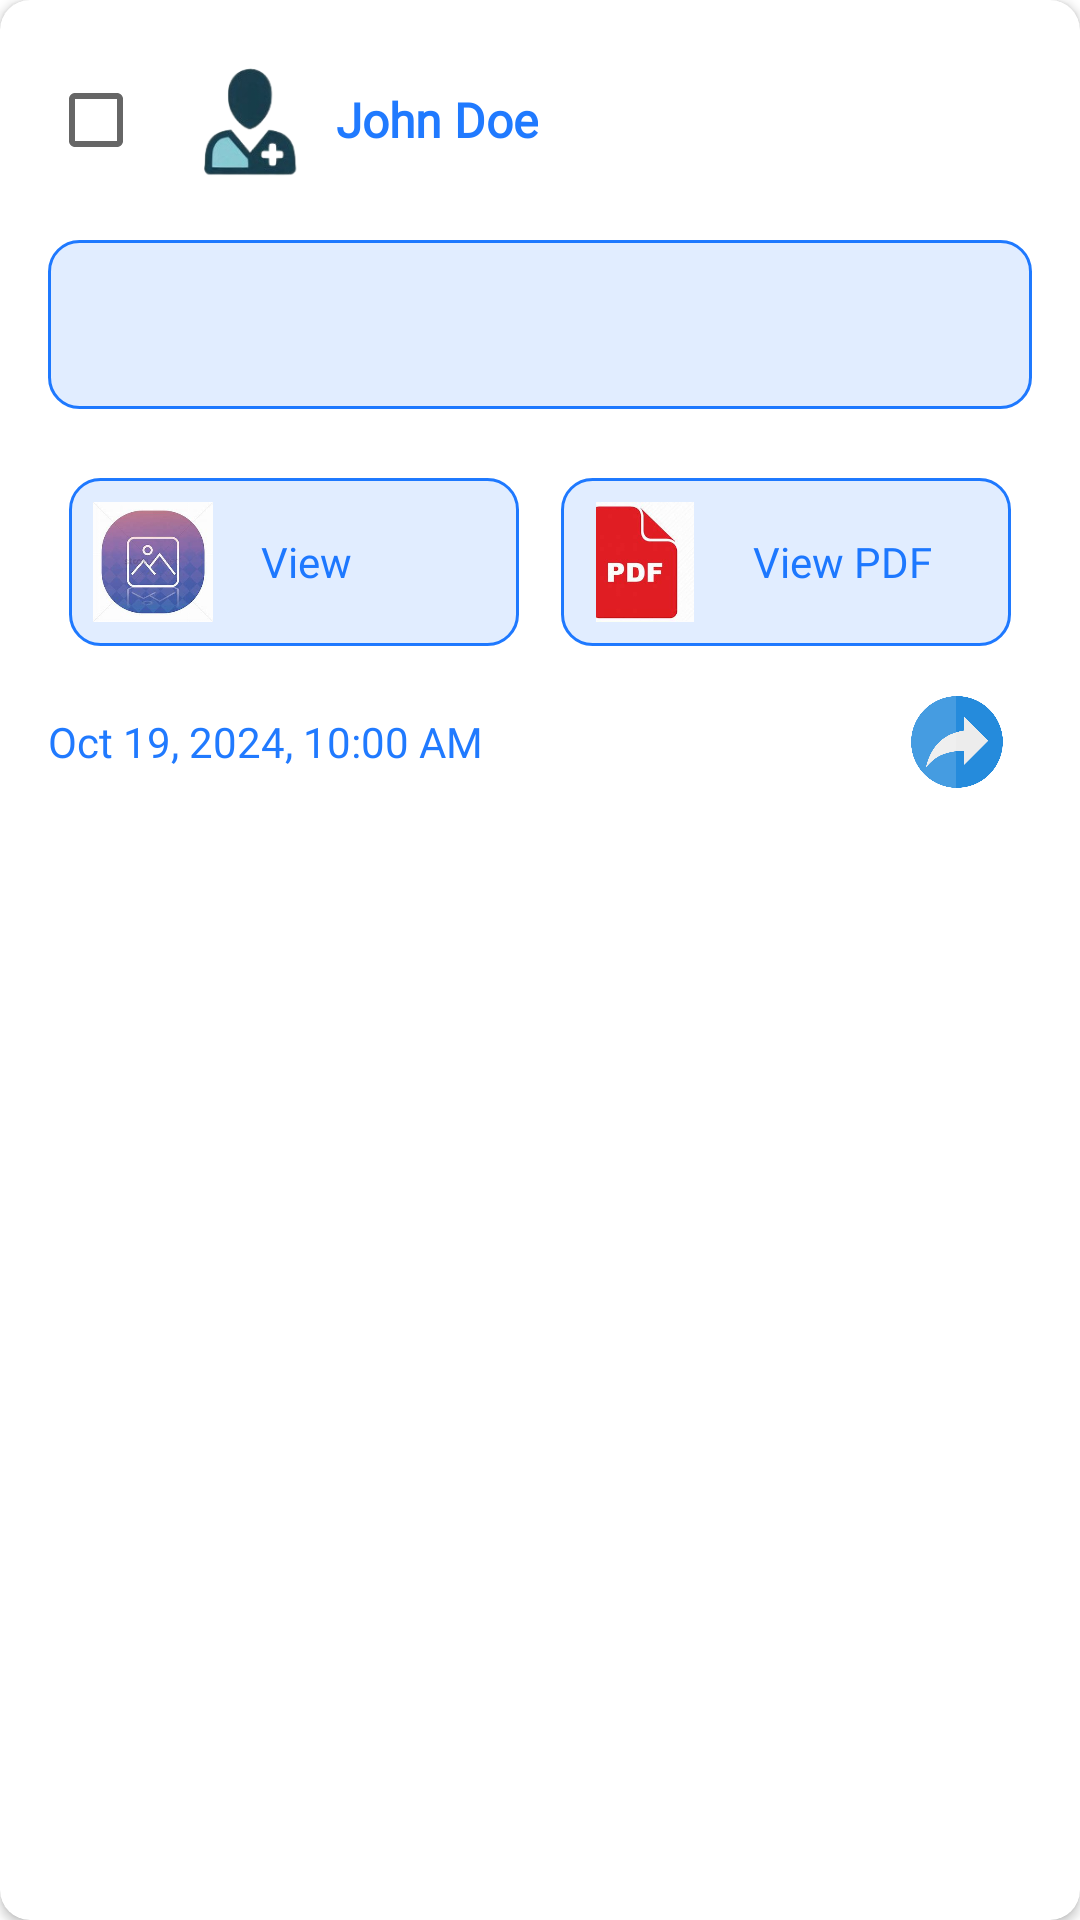

Icon click points for this 1080w x 1920h phone screenshot, format (x,y):
shareimage: (957,742)
